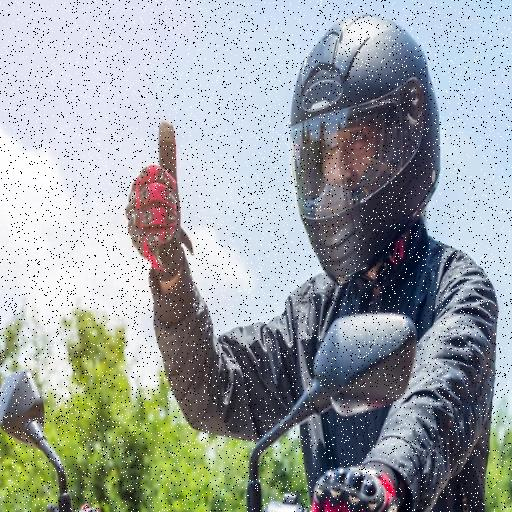Helmet: (288, 26, 436, 270)
